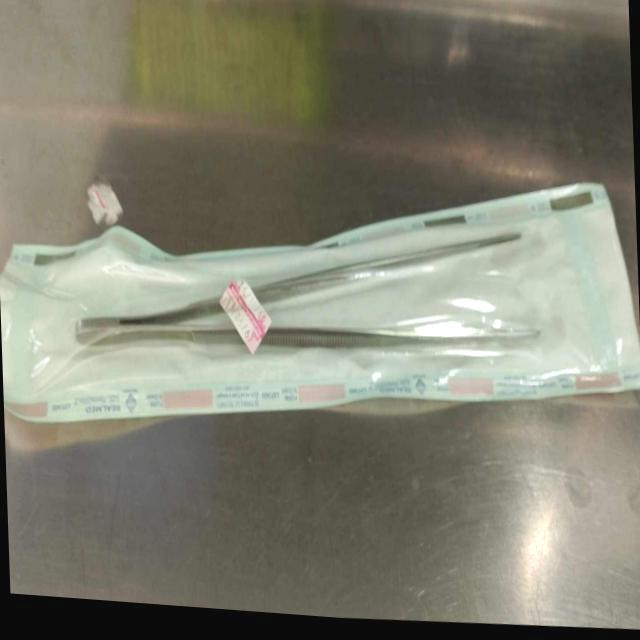General: (1, 178, 640, 425)
Sharps: (76, 228, 524, 332), (75, 315, 542, 352)
